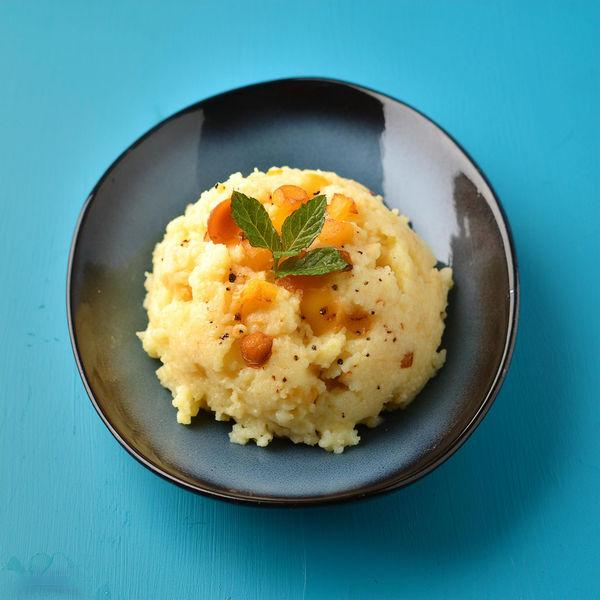upma: (147, 144, 450, 442)
